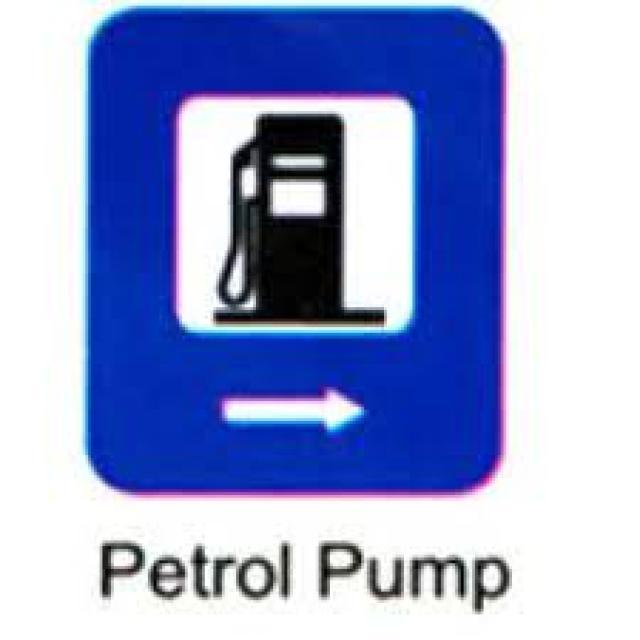petrol pump ahead: (146, 58, 469, 378)
